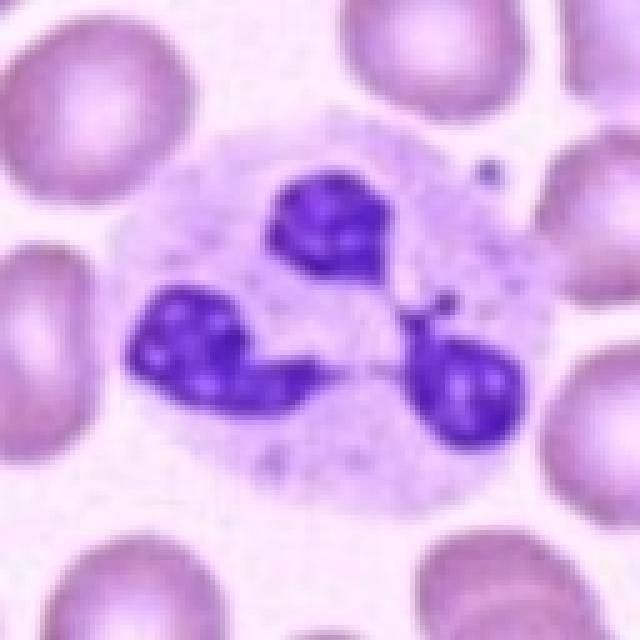neutro: (81, 66, 592, 527)
